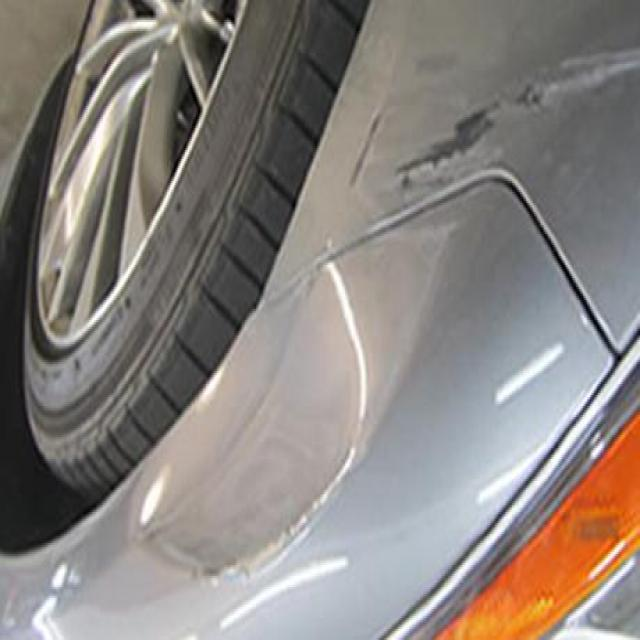scratch: (374, 38, 637, 205)
